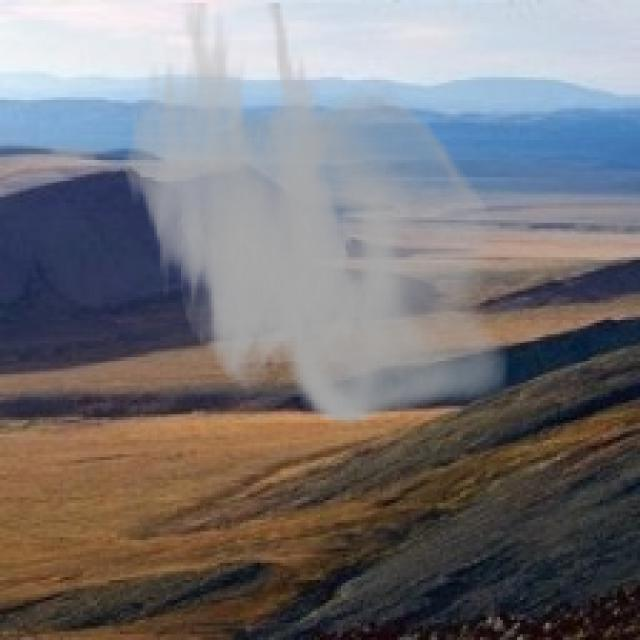smoke: (120, 3, 509, 426)
